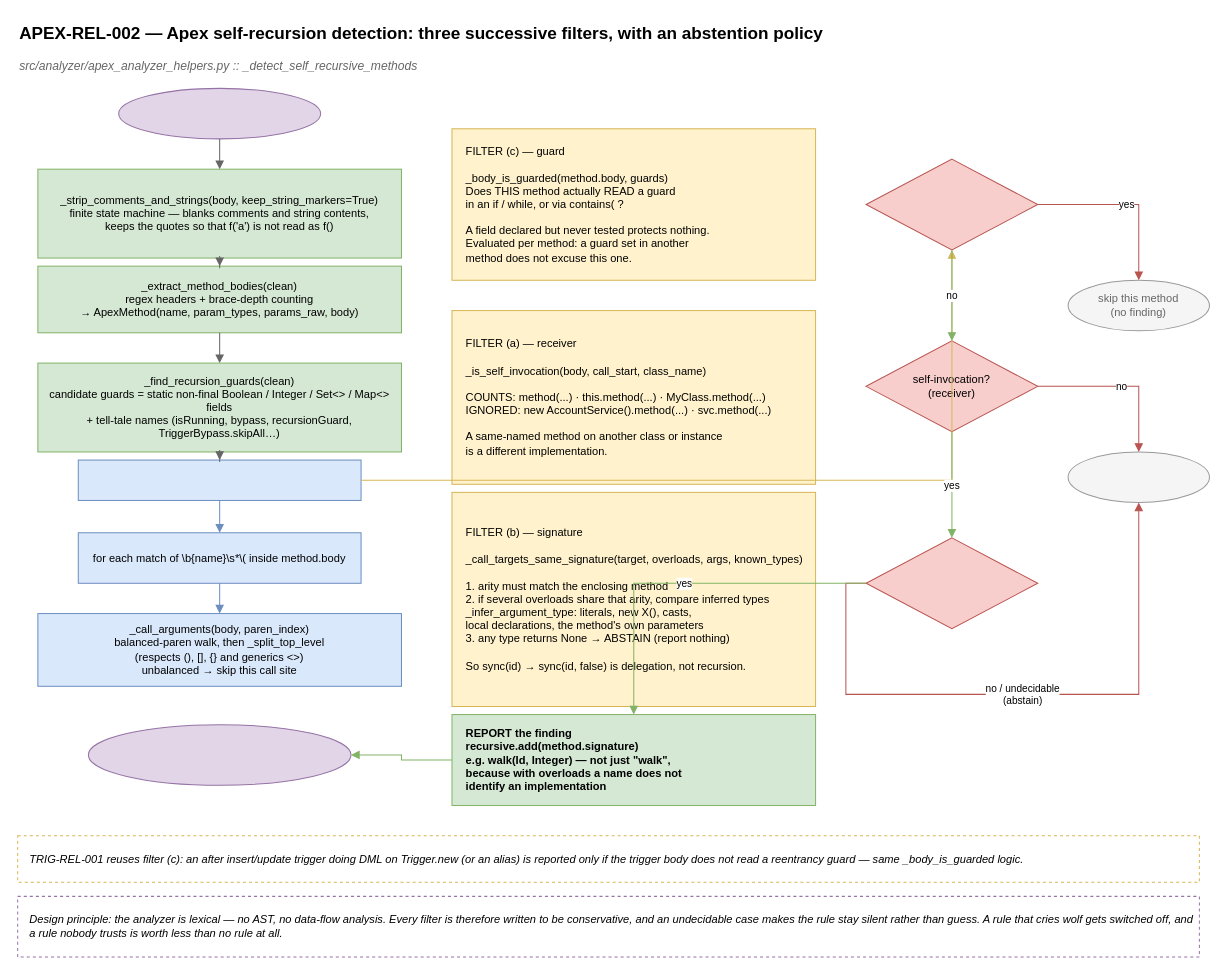
Some shapes in this 1227 by 975 pixel diagram are drawn without their labels. The centre of each missing label's shape, as x and y in pixels:
"Apex class body" goes at point 219,113.
"for each method with len(name) >= 3" goes at point 219,479.
"guard read in this method?" goes at point 951,204.
"next call site / next method" goes at point 1138,476.
"same signature? (arity + types)" goes at point 951,583.
"sorted list of offending signatures → one Finding per Apex class" goes at point 219,754.
